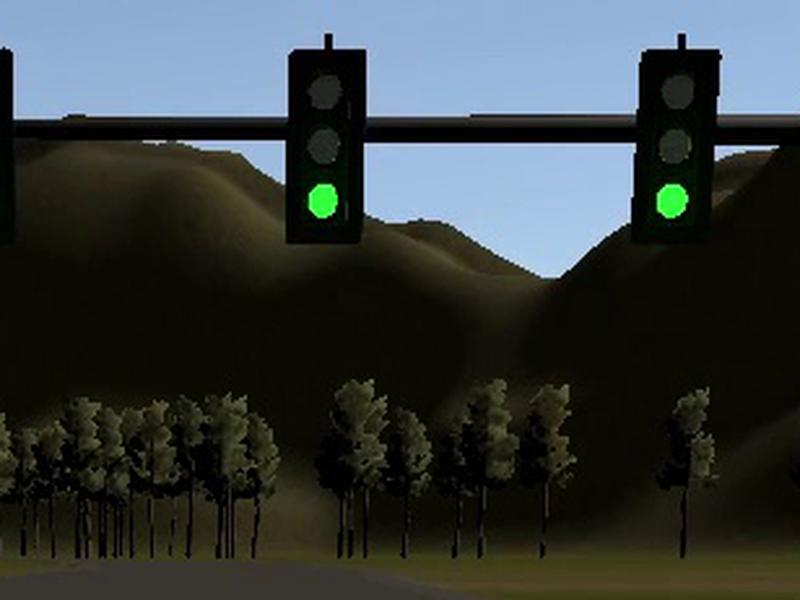Green: (631, 49, 723, 246), (285, 50, 367, 244)
